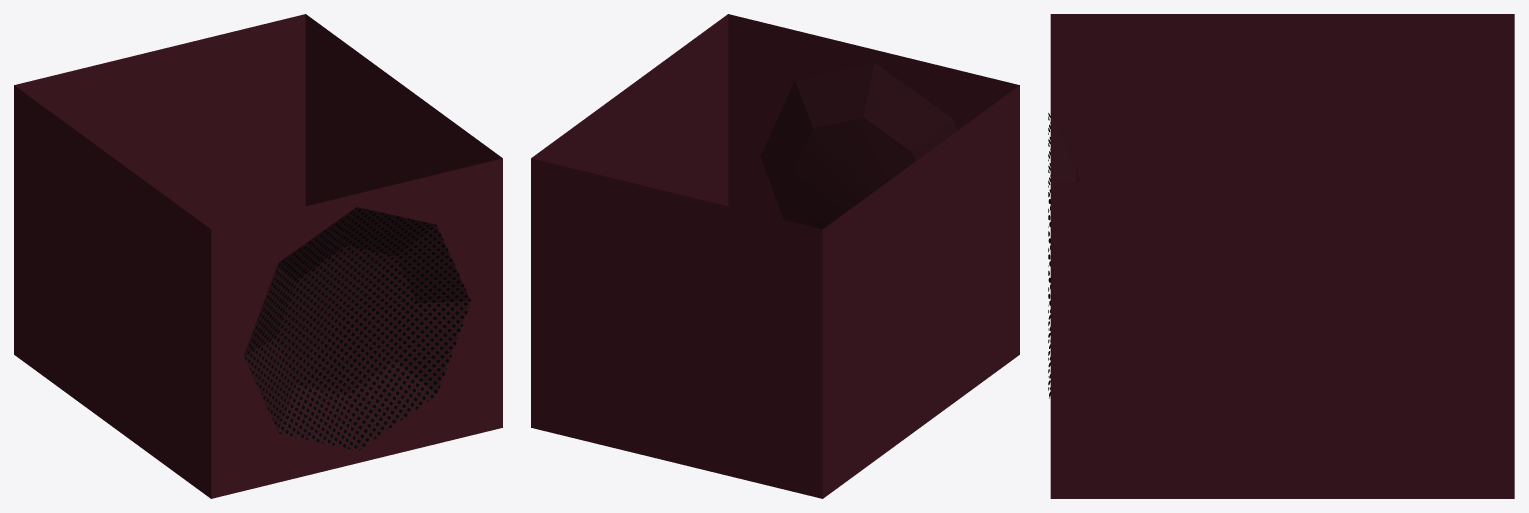
The model's file is Itr_Obj_Speaker1_Base_04.FBX.
3 renders of one model, left to right at view 1: azimuth 30°, elevation 25°; view 2: azimuth 150°, elevation 25°; view 3: azimuth 270°, elevation 25°, orthographic. The views are drawn at different scales.
Parts seen in each view (by area): view 1: Itr_Obj_Speaker1_Base_04; view 2: Itr_Obj_Speaker1_Base_04; view 3: Itr_Obj_Speaker1_Base_04.
Part boxes in pixels (bbox=[...]): Itr_Obj_Speaker1_Base_04: bbox=[14, 14, 502, 498]; Itr_Obj_Speaker1_Base_04: bbox=[531, 14, 1019, 498]; Itr_Obj_Speaker1_Base_04: bbox=[1048, 14, 1514, 498].
Bounding box in the file's own units: 9.88 × 8.72 × 11.62.
